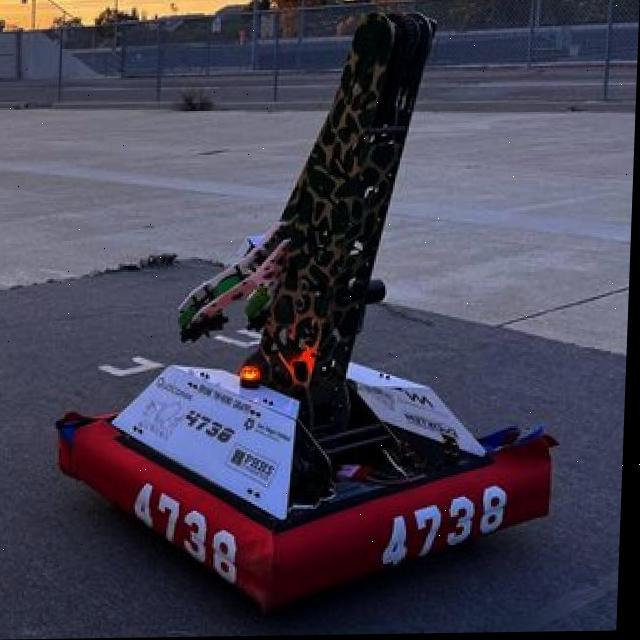robot: (48, 2, 579, 625)
